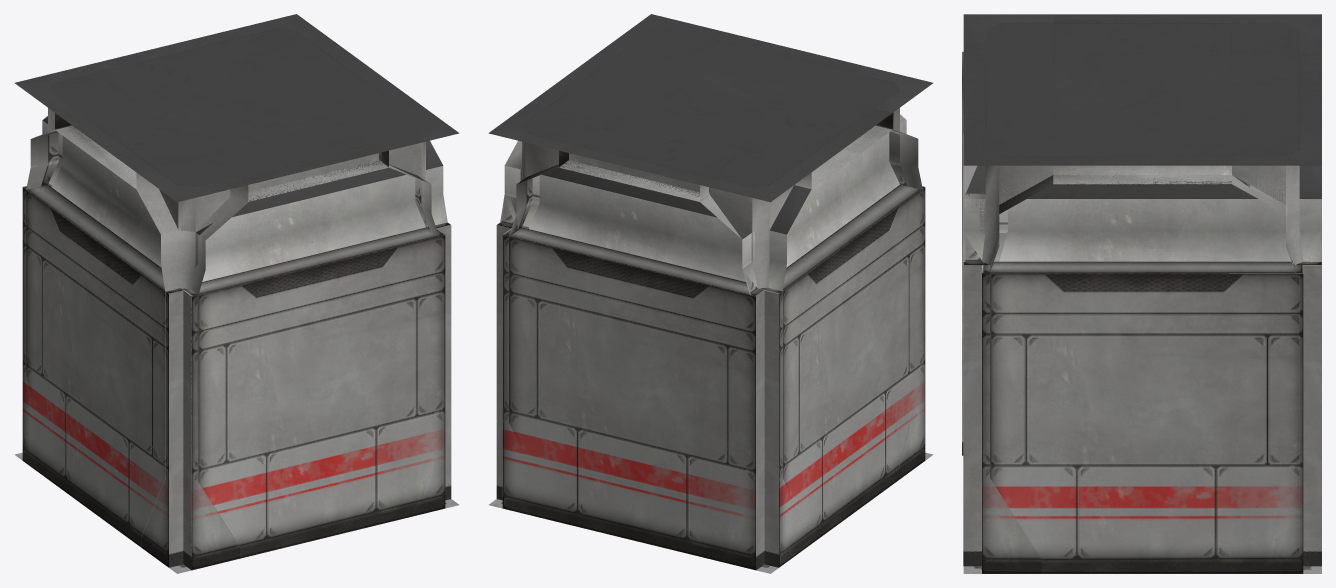
The model's file is modules01.FBX.
The picture shows the model from 3 angles, left to right: view 1: azimuth 30°, elevation 25°; view 2: azimuth 150°, elevation 25°; view 3: azimuth 270°, elevation 25°; orthographic projection. The views are drawn at different scales.
Visible parts, largest first — view 1: corner02, corner01, hallway03, hallway02, hallway06, hallway04, hallway05, roomwall02, roomwall03, hallway01, corner05, roomdoor01 (+9 smaller); view 2: corner04, corner01, hallway02, hallway03, hallway05, roomwall01, hallway06, roomwall02, roomwall03, hallway01, hallway04, roomdoor01 (+11 smaller); view 3: corner03, hallway05, hallway02, hallway06, hallway03, roomwall03, corner04, roomwall01, hallway04, hallway01, roomdoor02, hallway07 (+11 smaller).
Part boxes in pixels (box(x1,y1,x2,y2)): corner02: box(42, 113, 447, 558); corner01: box(26, 94, 438, 567); hallway03: box(43, 28, 430, 293); hallway02: box(30, 48, 444, 296); hallway06: box(46, 30, 443, 295); hallway04: box(48, 39, 388, 262); hallway05: box(31, 48, 424, 231); roomwall02: box(22, 21, 451, 567); roomwall03: box(15, 14, 409, 570); hallway01: box(23, 42, 450, 293); corner05: box(136, 173, 248, 558); roomdoor01: box(26, 14, 456, 189); corner04: box(509, 120, 921, 570); corner01: box(500, 133, 925, 547); hallway02: box(501, 48, 892, 296); hallway03: box(505, 28, 924, 293); hallway05: box(504, 29, 899, 285); roomwall01: box(502, 17, 764, 569); hallway06: box(505, 68, 891, 288); roomwall02: box(551, 16, 806, 567); roomwall03: box(489, 44, 906, 569); hallway01: box(509, 39, 918, 293); hallway04: box(497, 39, 899, 288); roomdoor01: box(489, 14, 852, 504); corner03: box(990, 124, 1321, 573); hallway05: box(963, 23, 1231, 262); hallway02: box(963, 23, 1321, 271); hallway06: box(1053, 23, 1303, 263); hallway03: box(963, 52, 1299, 265); roomwall03: box(963, 14, 1321, 573); corner04: box(963, 31, 1231, 573); roomwall01: box(963, 14, 1321, 566); hallway04: box(965, 23, 1302, 273); hallway01: box(965, 53, 1299, 273); roomdoor02: box(963, 14, 1231, 165); hallway07: box(963, 165, 1295, 236).
Size of the model in its own units: 100 by 100 by 126.
